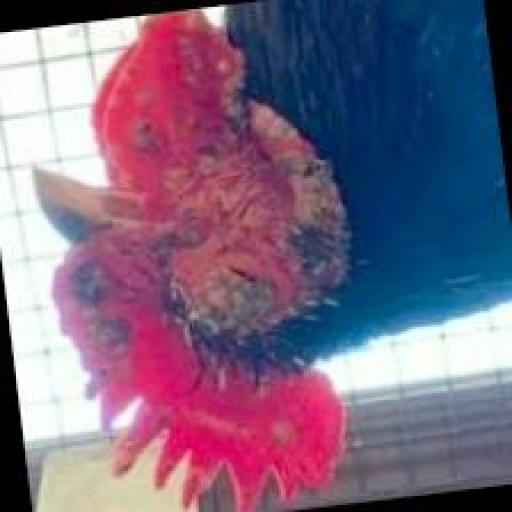disease: (153, 13, 349, 341), (105, 9, 220, 274), (55, 230, 99, 350)
